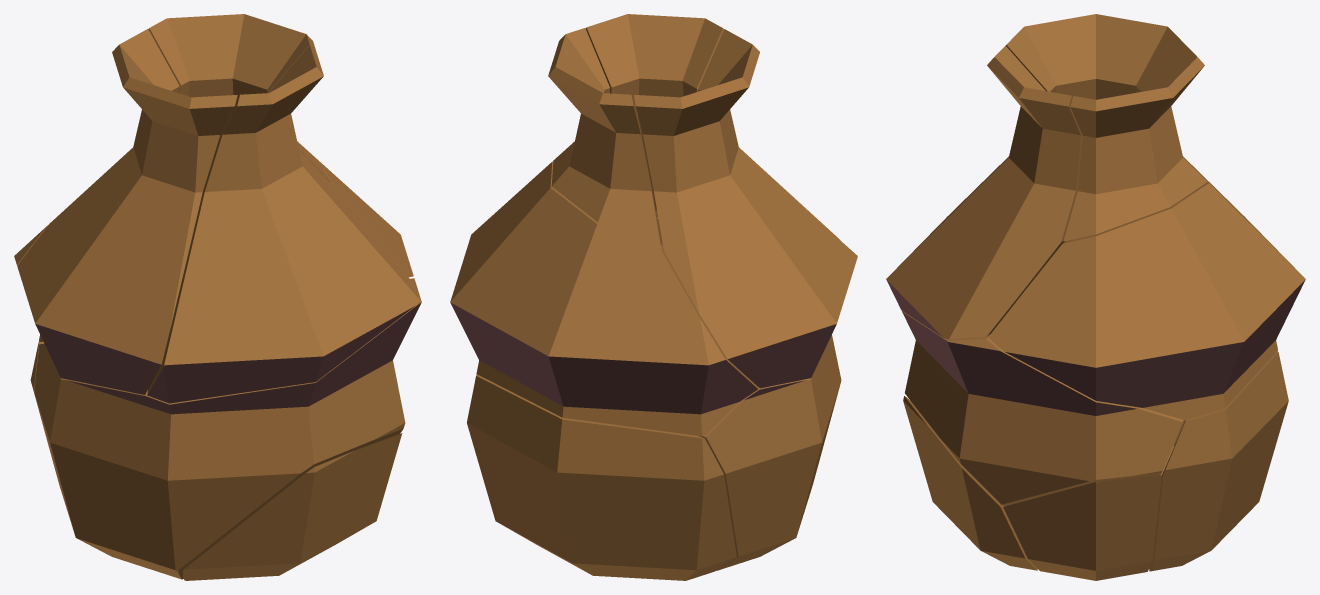
Rendered from Jug_Broken.fbx.
3 views of the same model, side by side, from view 1: azimuth 30°, elevation 25°; view 2: azimuth 150°, elevation 25°; view 3: azimuth 270°, elevation 25° (orthographic).
Visible parts, largest first — view 1: Jug_Shard_08, Jug_Shard_05, Jug_Shard_04, Jug_Shard_06, Jug_Shard_07, Jug_Shard_03; view 2: Jug_Shard_03, Jug_Shard_04, Jug_Shard_02, Jug_Shard_05, Jug_Shard_07, Jug_Shard_08; view 3: Jug_Shard_03, Jug_Shard_05, Jug_Shard_08, Jug_Shard_02, Jug_Shard_07, Jug_Shard_01, Jug_Shard_04, Jug_Shard_06.
Boxes of the visible parts, box(x1,y1,x2,y2) form: Jug_Shard_08: box(147, 45, 419, 403); Jug_Shard_05: box(34, 278, 421, 579); Jug_Shard_04: box(17, 29, 237, 394); Jug_Shard_06: box(183, 433, 402, 580); Jug_Shard_07: box(148, 14, 330, 182); Jug_Shard_03: box(14, 161, 413, 342); Jug_Shard_03: box(450, 161, 757, 436); Jug_Shard_04: box(634, 29, 857, 388); Jug_Shard_02: box(467, 374, 736, 580); Jug_Shard_05: box(657, 217, 841, 570); Jug_Shard_07: box(548, 28, 661, 249); Jug_Shard_08: box(585, 14, 857, 256); Jug_Shard_03: box(988, 171, 1305, 419); Jug_Shard_05: box(902, 311, 1183, 506); Jug_Shard_08: box(886, 46, 1082, 339); Jug_Shard_02: box(1149, 351, 1288, 571); Jug_Shard_07: box(1063, 46, 1207, 241); Jug_Shard_01: box(1003, 475, 1161, 580); Jug_Shard_04: box(964, 14, 1213, 199); Jug_Shard_06: box(903, 396, 1037, 570).
Bounding box in the file's own units: 40.1 × 49.8 × 40.1.
